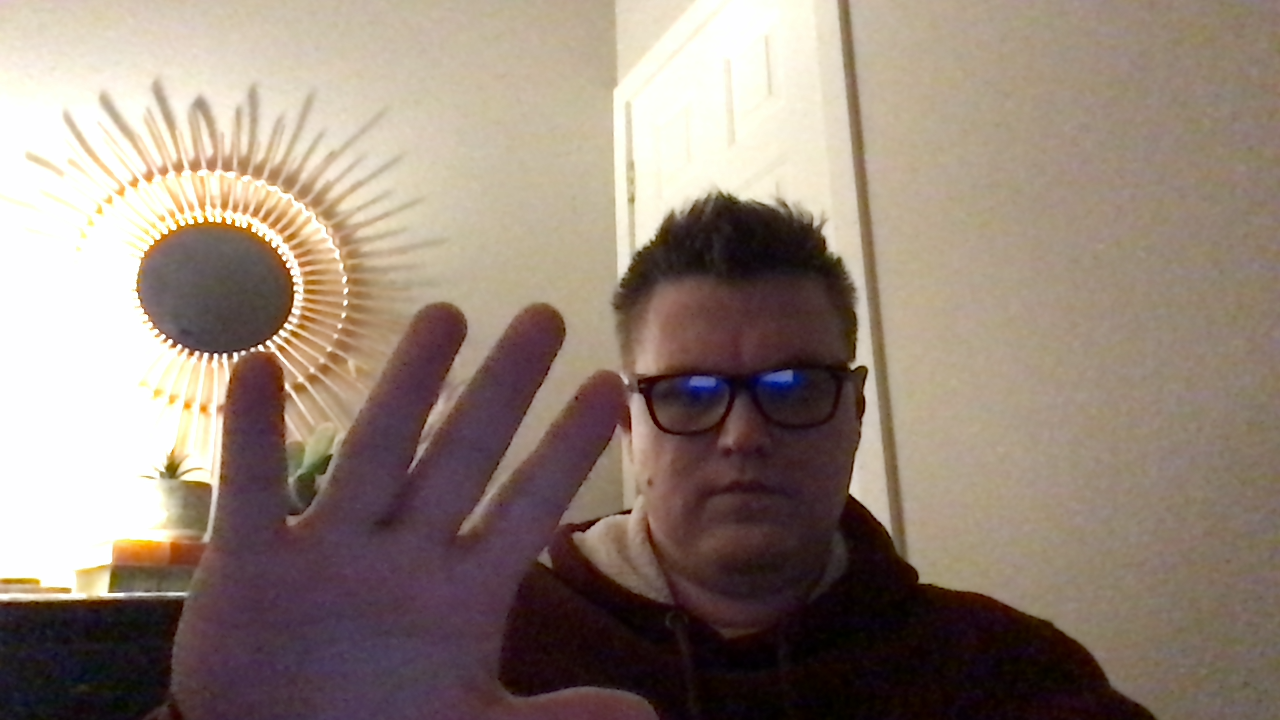hello: (168, 293, 671, 720)
